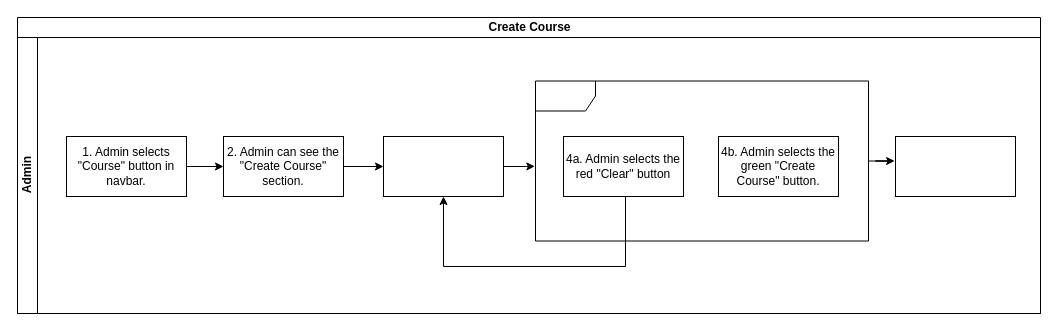
This 1058x331 diagram has some shape labels left out. Here are the shapes that lost their labels. From the top down, the box of each, then its label:
(382, 136, 504, 196): 3. Admin enters information about new course in form fields.
(534, 80, 868, 241): alt
(894, 136, 1016, 196): 5. Course created. Successful course creation message.
